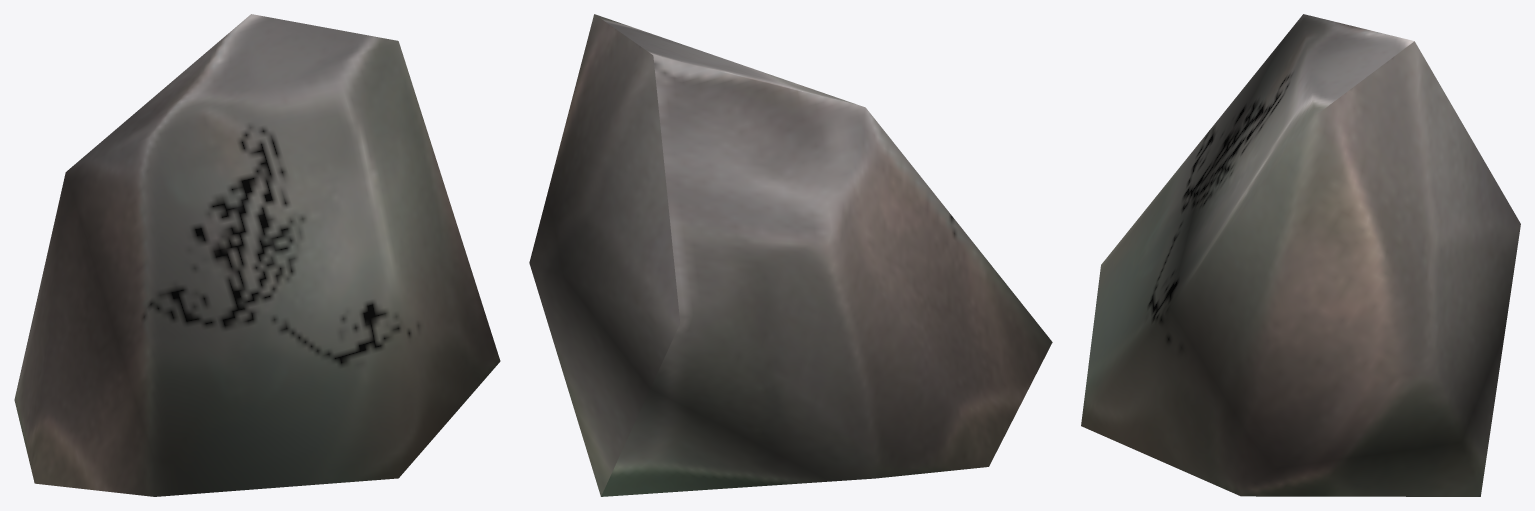
3 views of the same model, side by side, from view 1: azimuth 30°, elevation 25°; view 2: azimuth 150°, elevation 25°; view 3: azimuth 270°, elevation 25° (orthographic). The views are drawn at different scales.
Parts seen in each view (by area): view 1: Ն.001; view 2: Ն.001; view 3: Ն.001.
Part boxes in pixels (x1,y1,x2,y2): Ն.001: (14, 14, 500, 496); Ն.001: (529, 14, 1052, 496); Ն.001: (1081, 14, 1520, 496).
Bounding box in the file's own units: 80.61 × 71.06 × 63.66.
